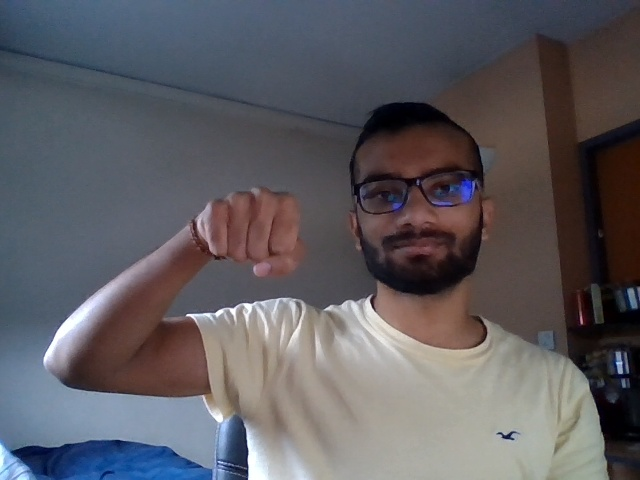Yes: (160, 169, 317, 287)
